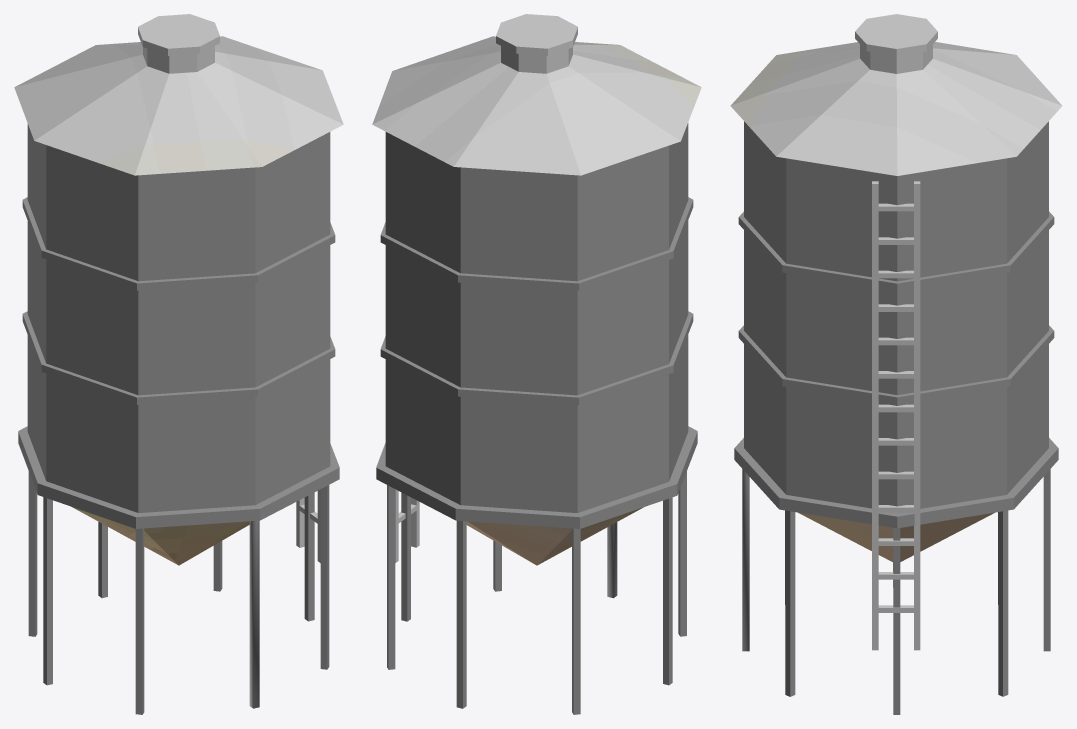
Rendered from silo.glb.
The picture shows the model from 3 angles, left to right: view 1: azimuth 30°, elevation 25°; view 2: azimuth 150°, elevation 25°; view 3: azimuth 270°, elevation 25°; orthographic projection.
Parts seen in each view (by area): view 1: node-0; view 2: node-0; view 3: node-0.
Part boxes in pixels (x1,y1,x2,y2): node-0: [14, 14, 343, 714]; node-0: [372, 14, 701, 714]; node-0: [730, 14, 1062, 714].
Bounding box in the file's own units: 7.47 × 15.33 × 7.47.
Materials: 1 (1 with a texture image).
